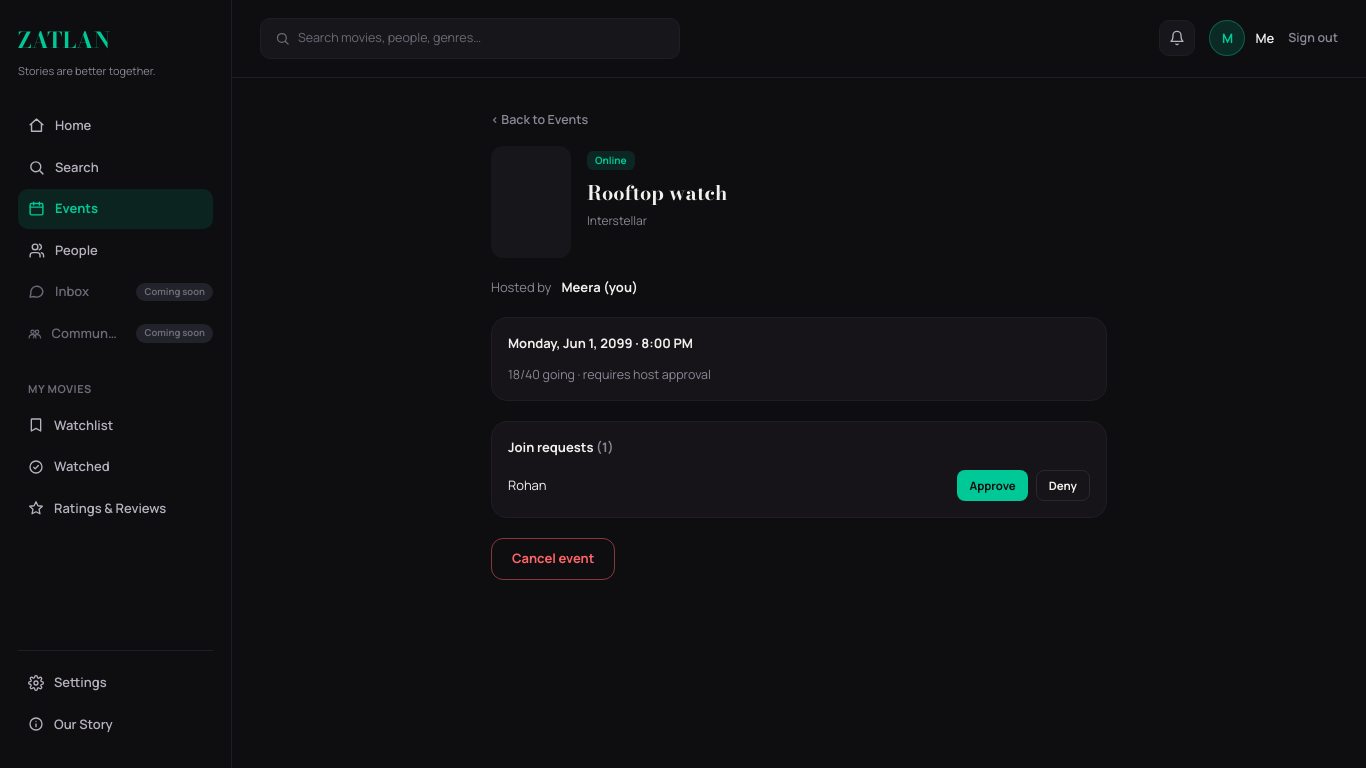
Test: EventDetailPage › join requests (host only) › shows an error and leaves the request in the list when approving fails
Expected: the text "Rohan" is shown, [508,476,547,495]
Click the button "Approve" at (993, 485), box [958,470,1028,501]
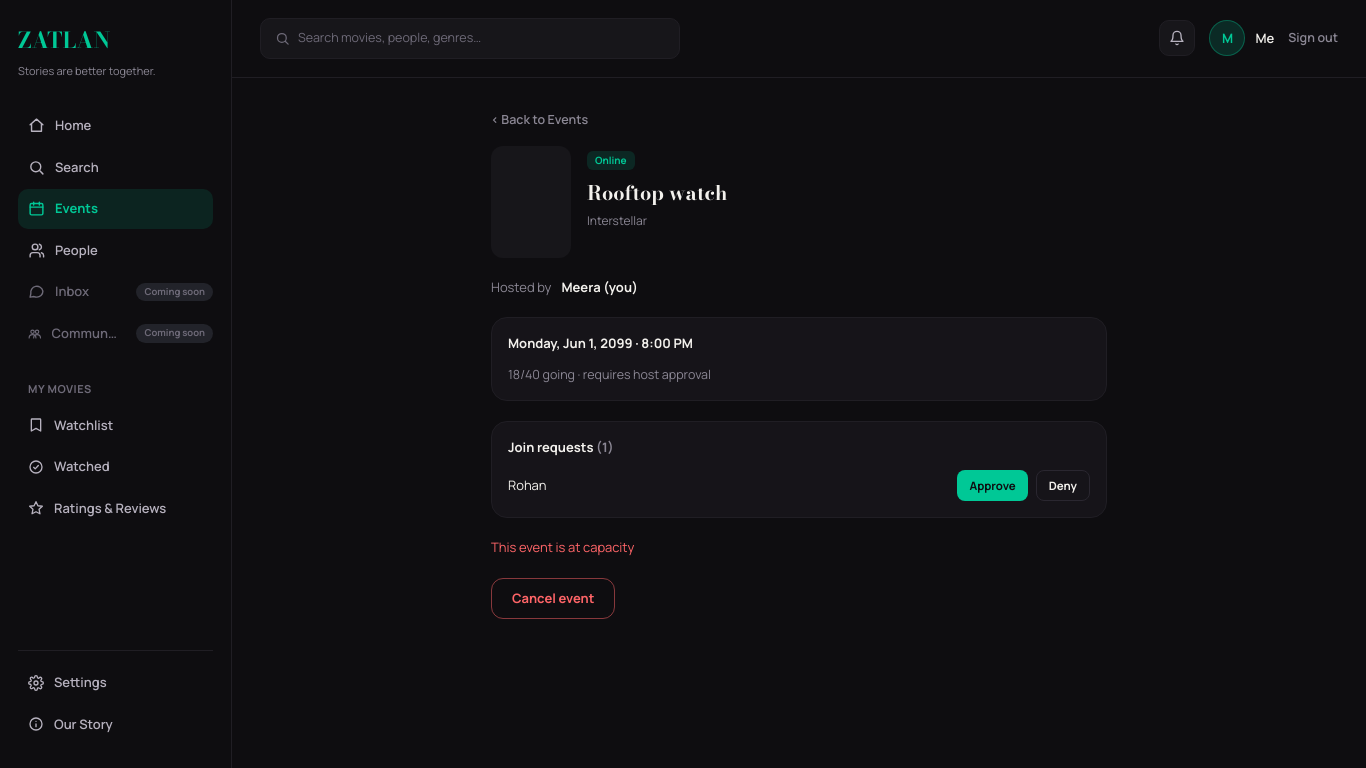
Expected: the text "Rohan" is shown, [508,476,547,495]
Now the message reads "This event is at capacity", box [491,538,634,556]
